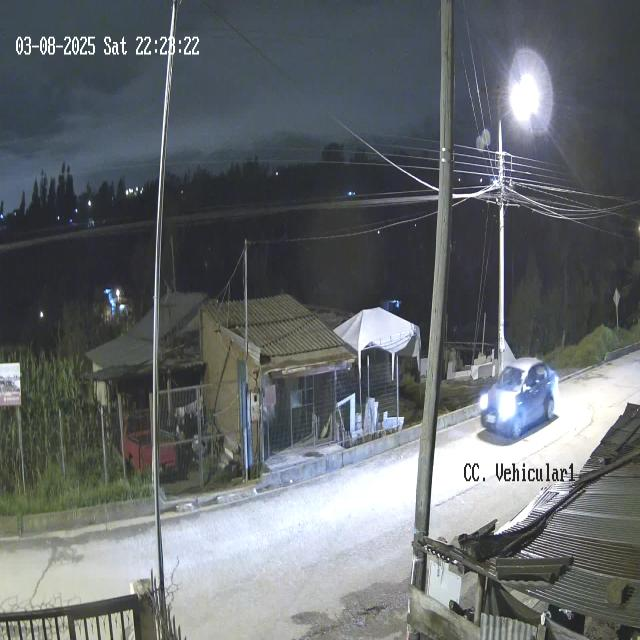SED: (479, 357, 559, 438)
